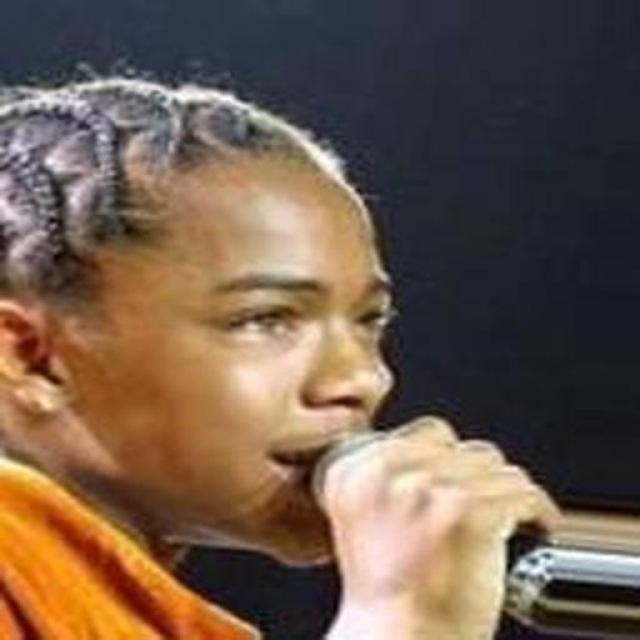bareface: (83, 121, 418, 576)
